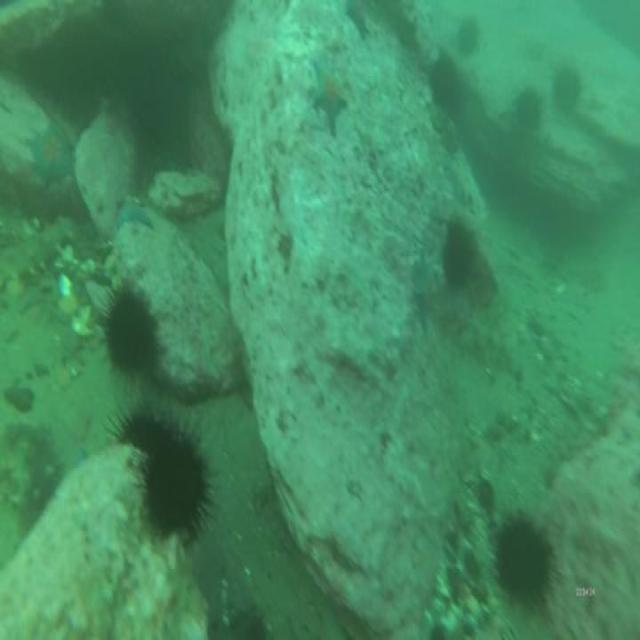echinus: (146, 433, 205, 536), (500, 516, 554, 600), (108, 291, 154, 373), (428, 55, 462, 114), (444, 224, 474, 280), (553, 68, 579, 111), (457, 17, 478, 54), (517, 90, 538, 123)
starfish: (30, 125, 76, 178), (314, 68, 346, 122), (416, 256, 439, 318), (118, 198, 150, 229)
